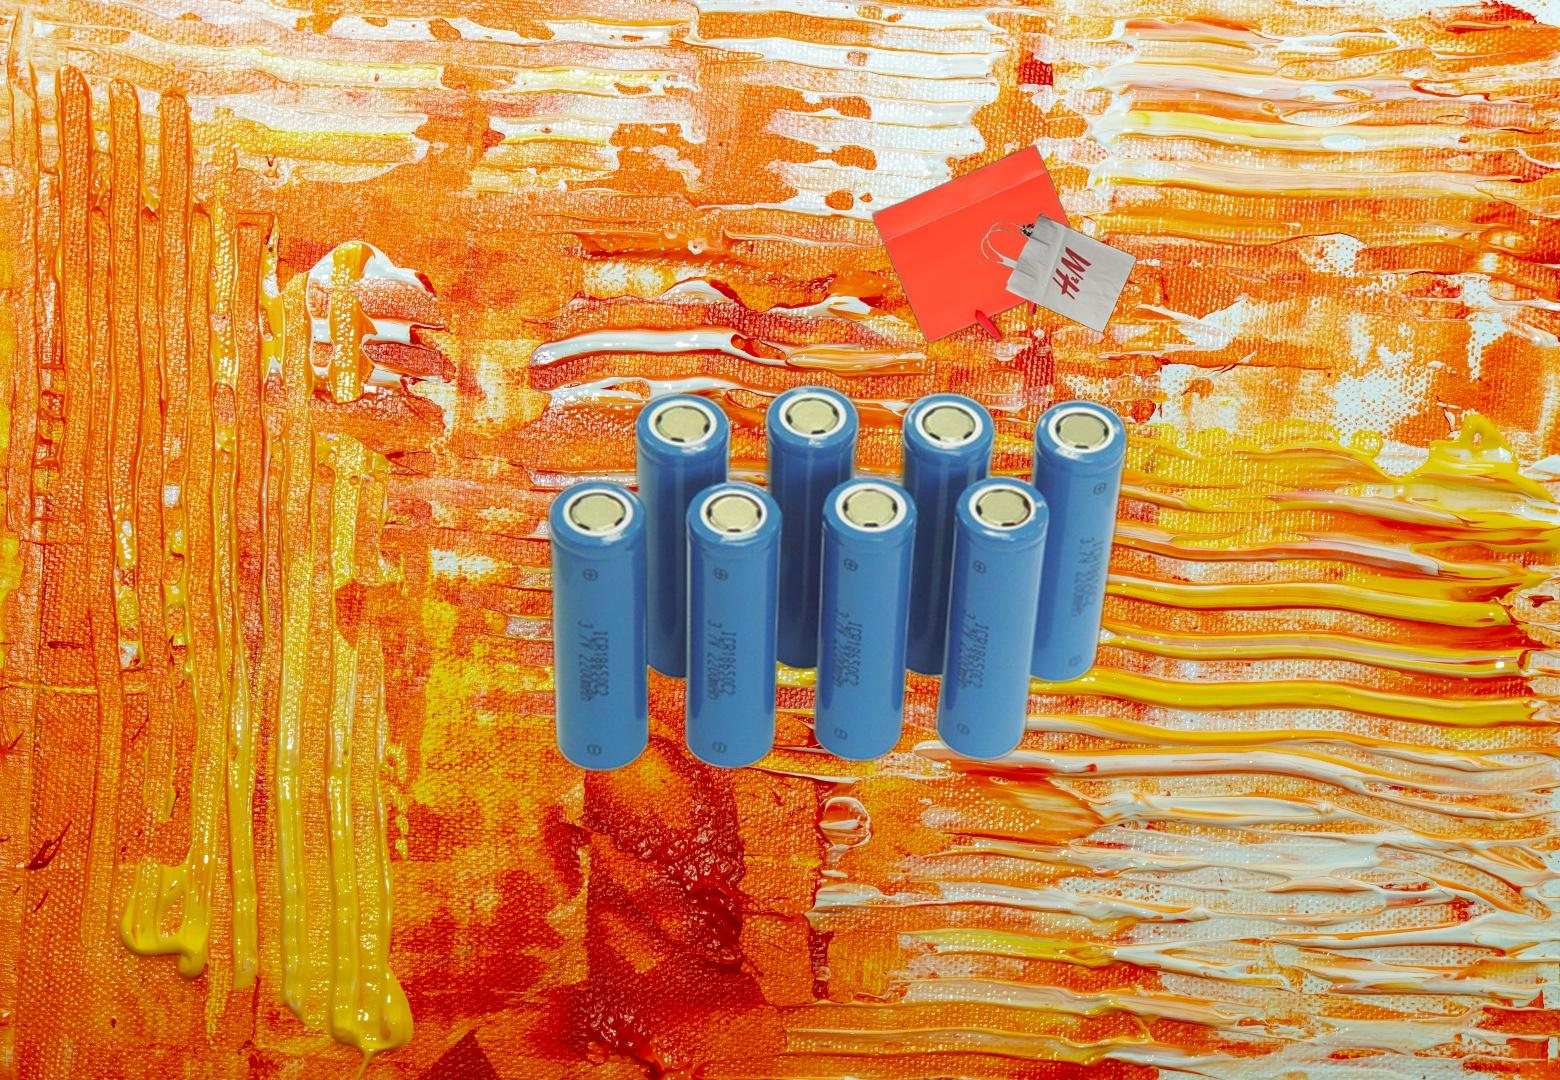battery: (541, 378, 1134, 777)
paper-bag: (869, 142, 1140, 345)
